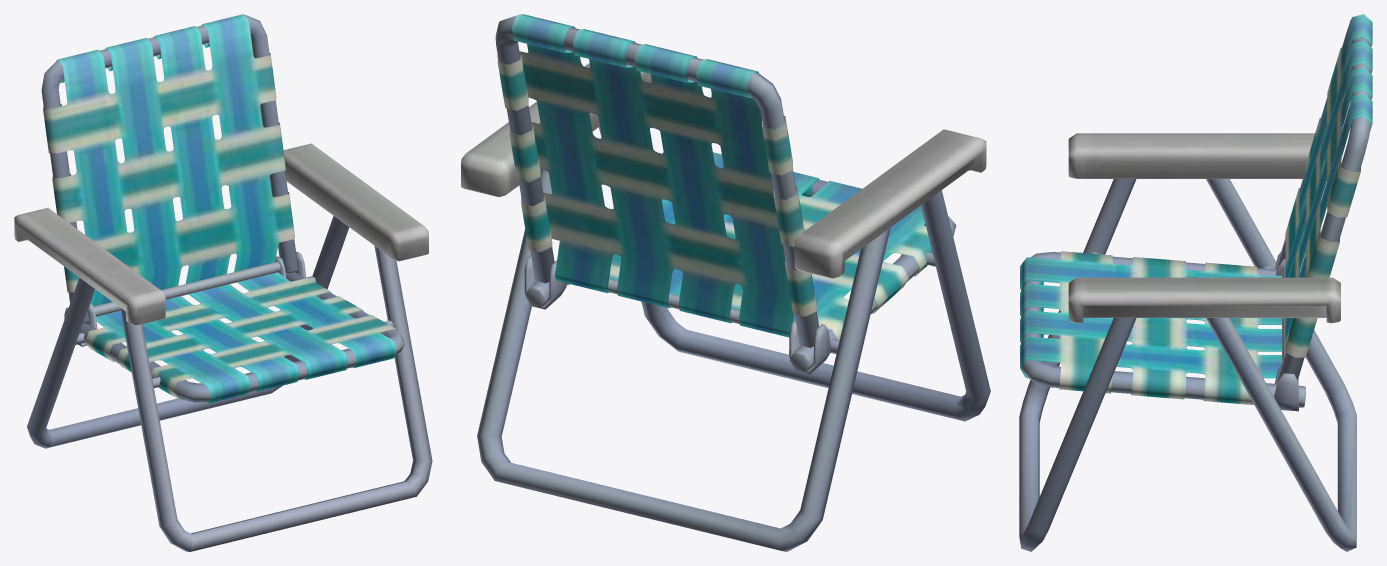
3 views of the same model, side by side, from view 1: azimuth 30°, elevation 25°; view 2: azimuth 150°, elevation 25°; view 3: azimuth 270°, elevation 25° (orthographic). The views are drawn at different scales.
Size of the model in its own units: 8.39 by 10.14 by 7.63.
1 material, 1 textured.
